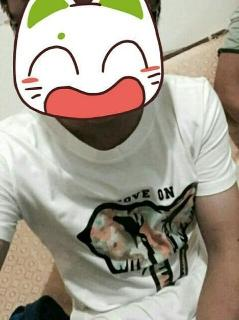short sleeve top: (0, 74, 239, 319)
